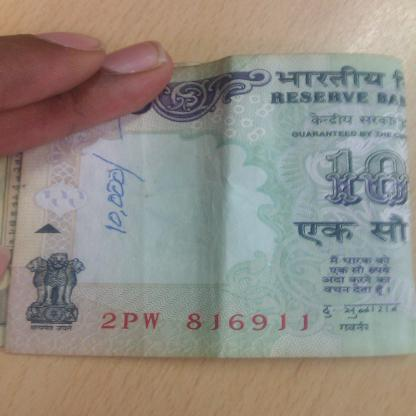Old100Front: (0, 51, 416, 361)
